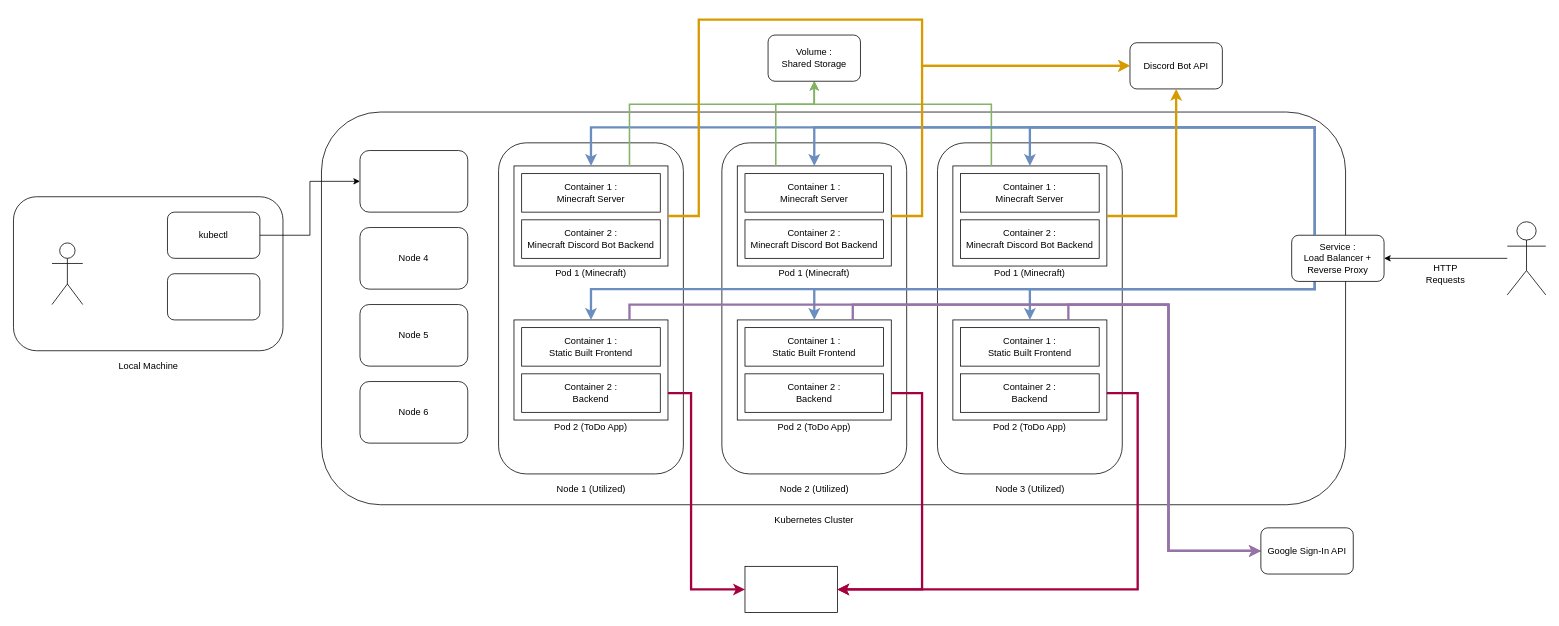
Image size: 1559x626. Some labels were removed from this diagram. The centre of each missing label's shape, as x and y in pixels:
config: (x=213, y=296)
Master Node: (x=413, y=181)
User: (x=1526, y=258)
Volume : Shared Database: (x=790, y=589)
